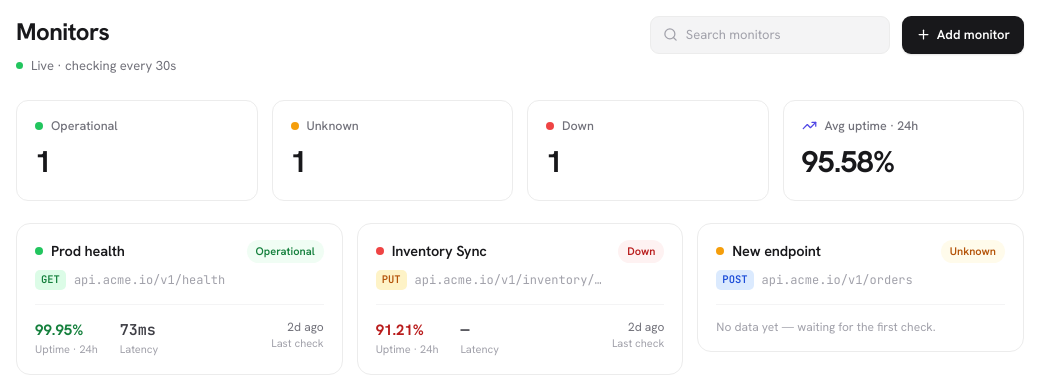
Test: dashboard › filters cards by the search field (name or URL)
Expected: the text "Prod health" is shown, left=51, top=240, right=125, bottom=262
Step 1. Type "inventory" into the search field with placeholder "Search monitors" → (781, 35), box left=686, top=25, right=877, bottom=44
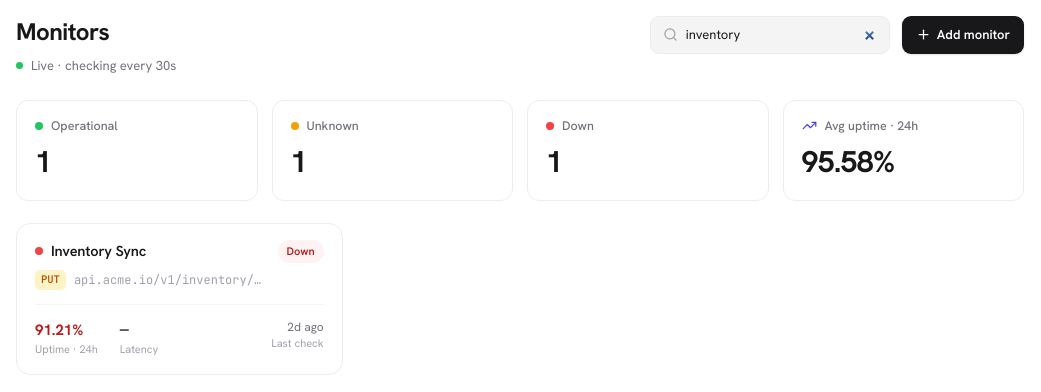
Expected: the text "Inventory Sync" is shown, left=51, top=240, right=146, bottom=262
Now the link "Prod health" is gone
